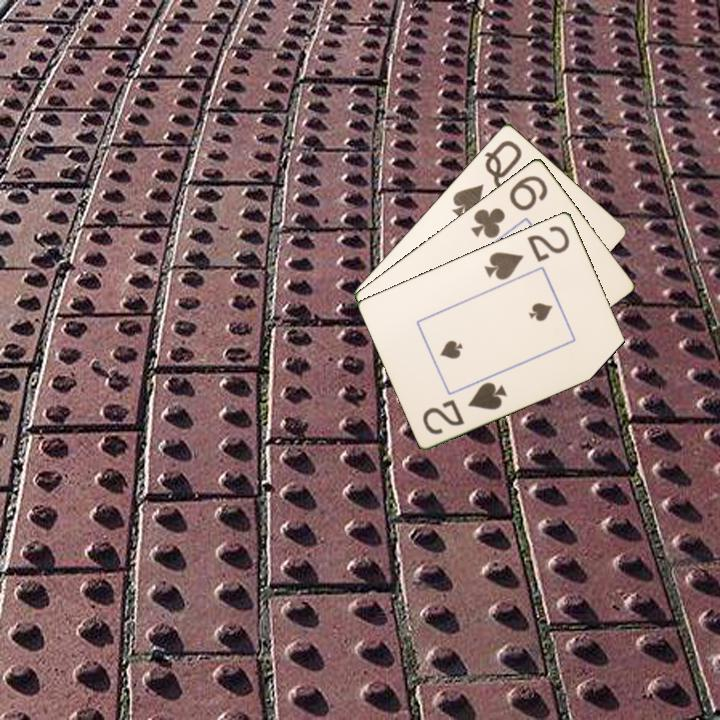2s: (481, 222, 573, 283), (419, 378, 510, 437)
6c: (467, 171, 551, 241)
Qs: (448, 136, 525, 220)
